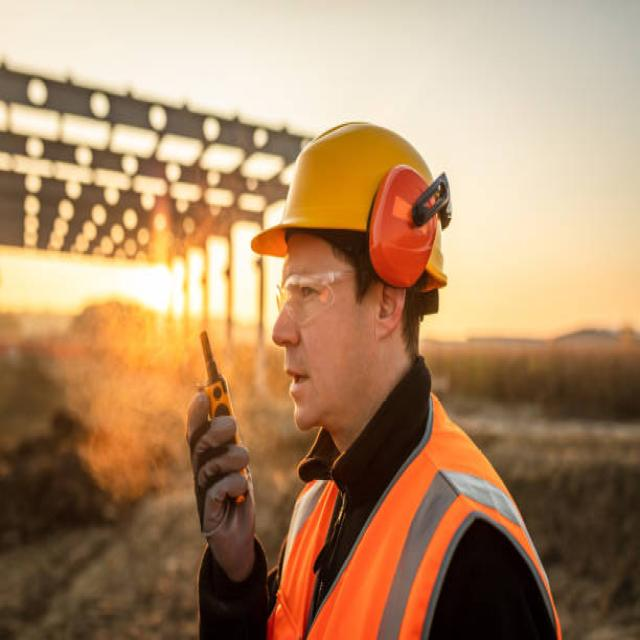gloves: (188, 368, 256, 586)
